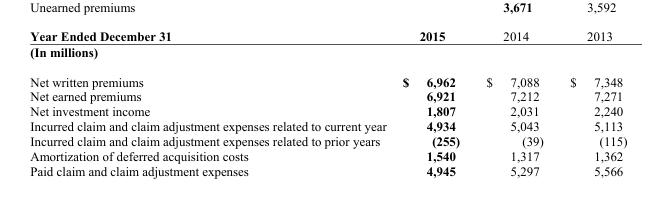table: (29, 28, 626, 177)
table column: (29, 28, 393, 177), (472, 28, 556, 177), (393, 28, 472, 177), (556, 28, 626, 177)
table column header: (29, 28, 626, 43)
table projected row header: (29, 43, 626, 66)
table row: (29, 43, 626, 66), (29, 66, 626, 88), (29, 28, 626, 43), (29, 88, 626, 103), (29, 103, 626, 118), (29, 118, 626, 133), (29, 133, 626, 148), (29, 162, 626, 177), (29, 148, 626, 162)
